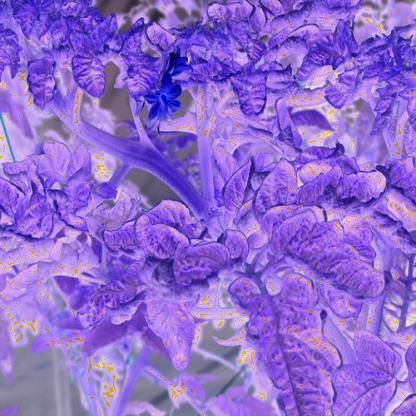Tomato leaf: (231, 270, 341, 415), (273, 218, 388, 304), (98, 188, 194, 279), (169, 233, 250, 303), (246, 158, 320, 232), (213, 160, 265, 220), (290, 39, 358, 82), (30, 52, 69, 118), (68, 48, 112, 102), (223, 73, 271, 120)
